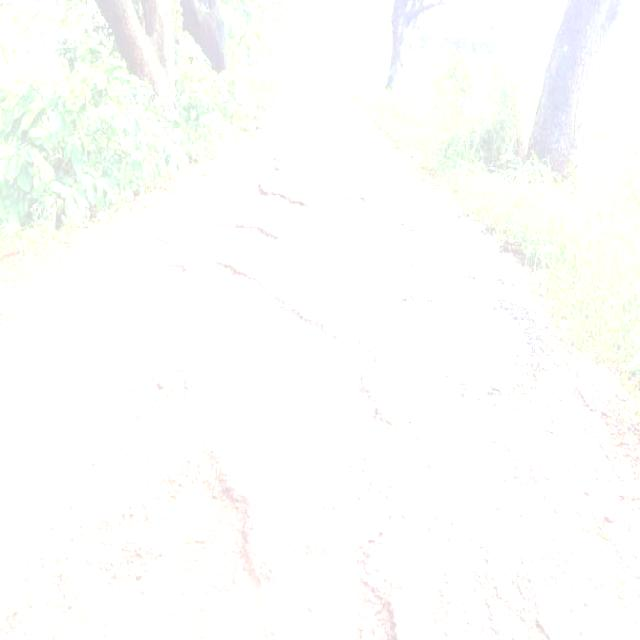Pothole: (138, 214, 537, 640), (354, 179, 543, 426)
